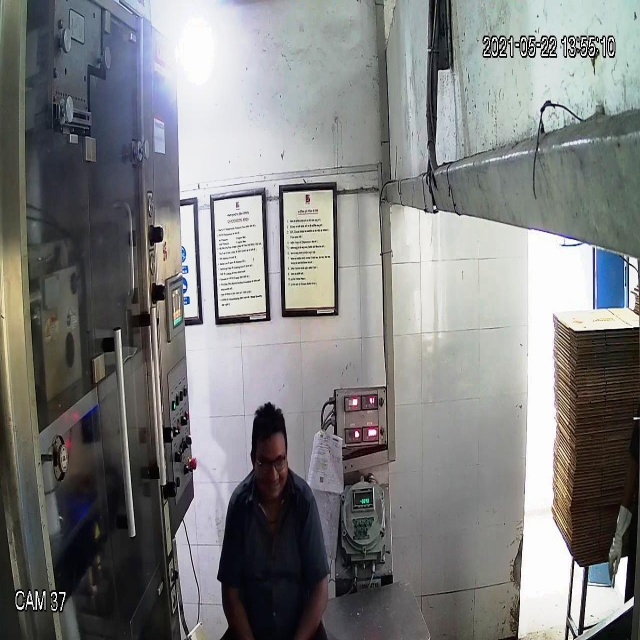Gafas: (246, 446, 290, 479)
